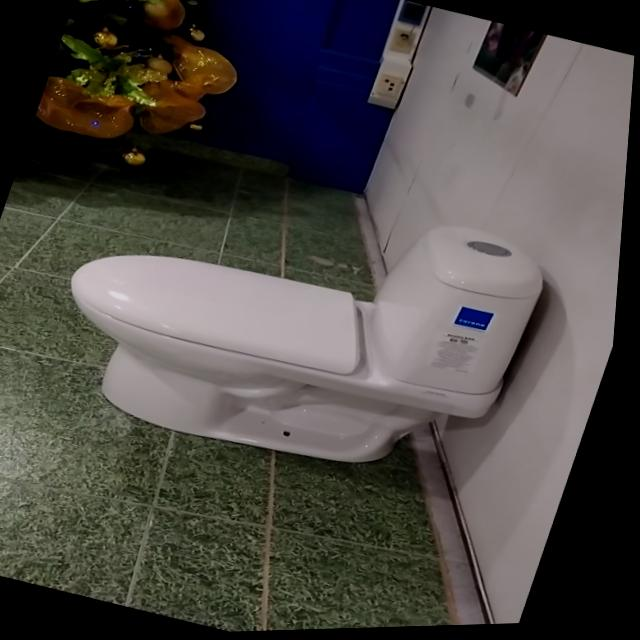toilet: (29, 131, 568, 516)
